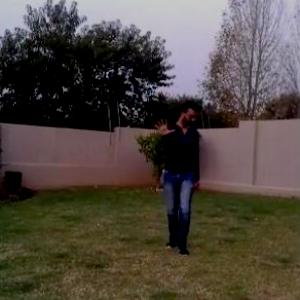follow_hand: (148, 111, 177, 140)
